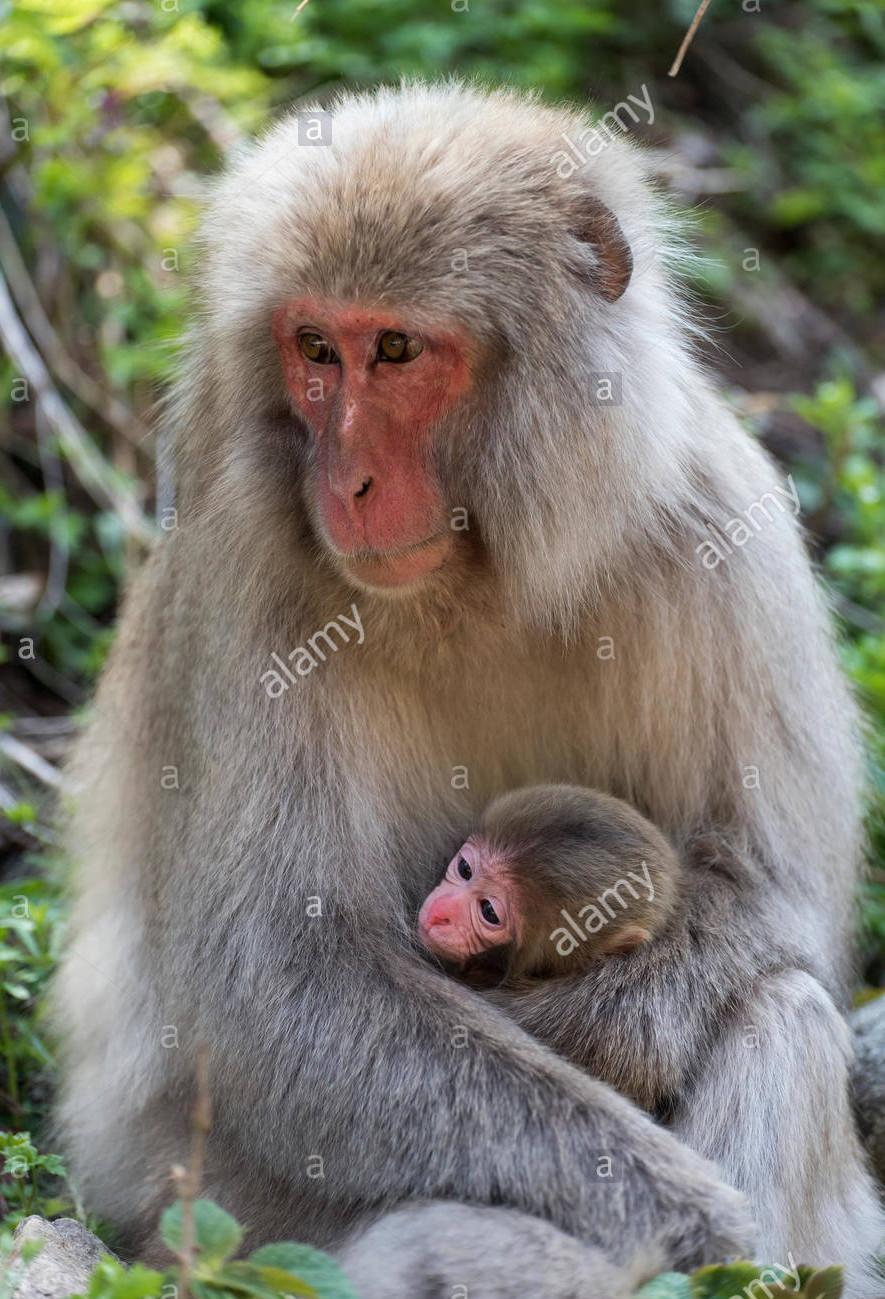monkey: (48, 84, 885, 1299)
